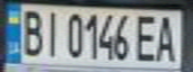0: (63, 9, 84, 58)
1: (81, 10, 100, 60)
4: (97, 10, 118, 60)
6: (112, 10, 136, 62)
A: (151, 12, 181, 63)
B: (18, 6, 45, 56)
E: (133, 11, 160, 63)
I: (39, 7, 63, 58)
